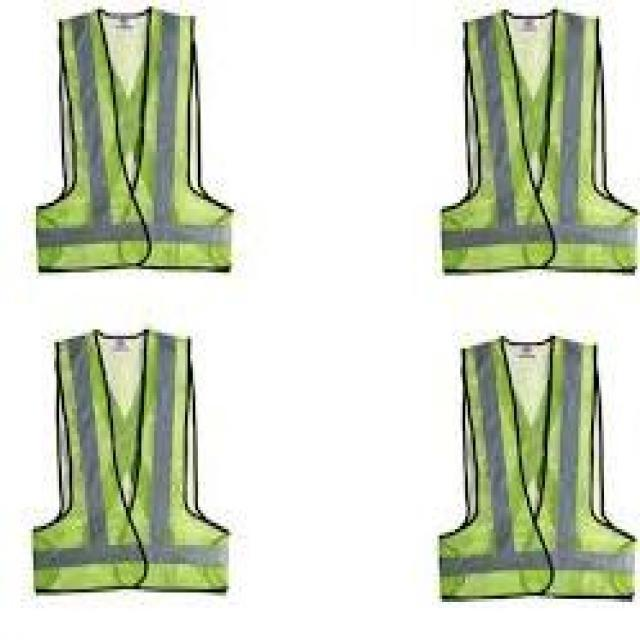reflective_jacket: (5, 298, 257, 602), (10, 6, 262, 281), (420, 5, 639, 278)
